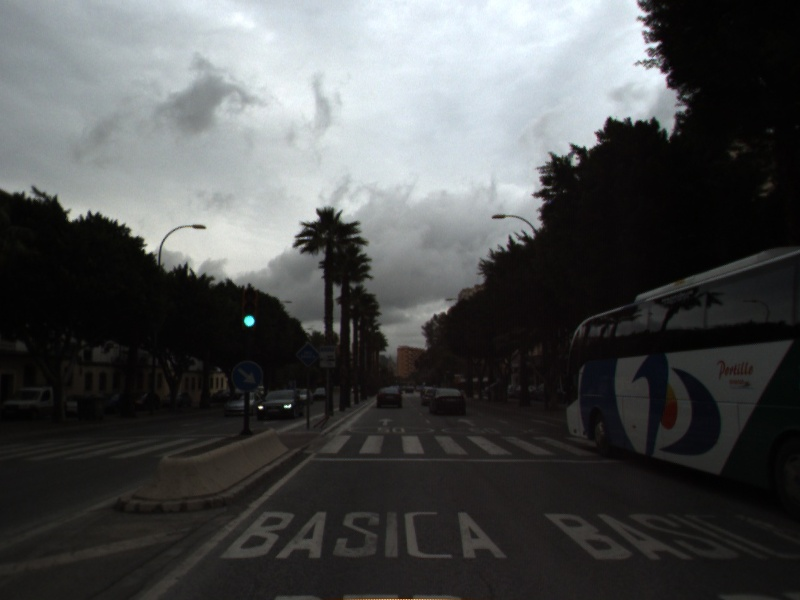STRAIGHT: (455, 415, 478, 429), (376, 416, 396, 428)
